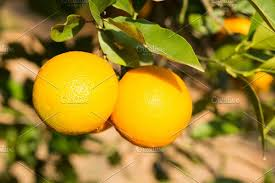orange: (31, 48, 117, 132), (112, 61, 194, 147)
